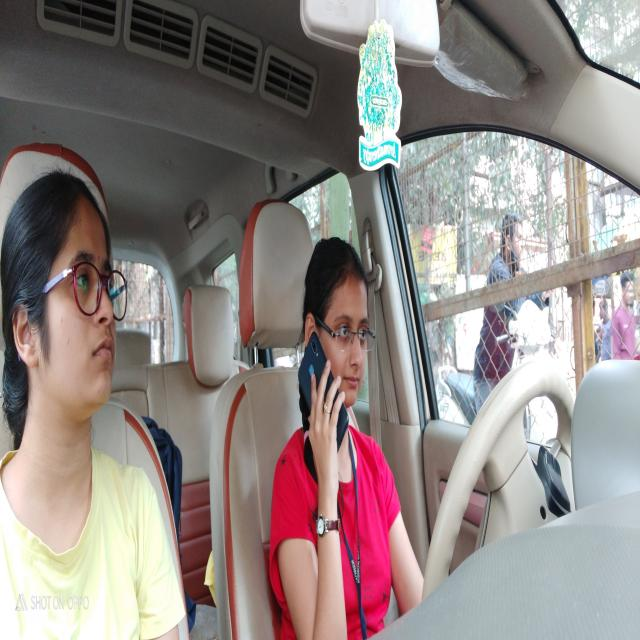mobile: (294, 331, 352, 457)
person: (1, 174, 125, 410), (301, 231, 375, 409)
